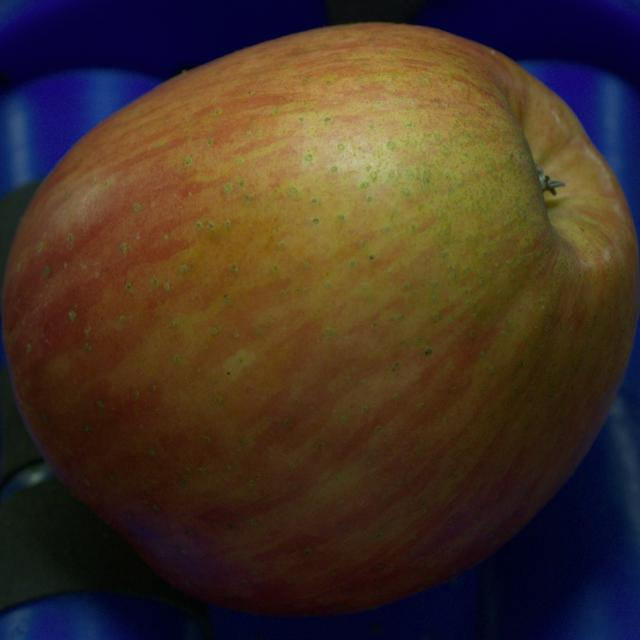apple: (2, 24, 639, 614)
